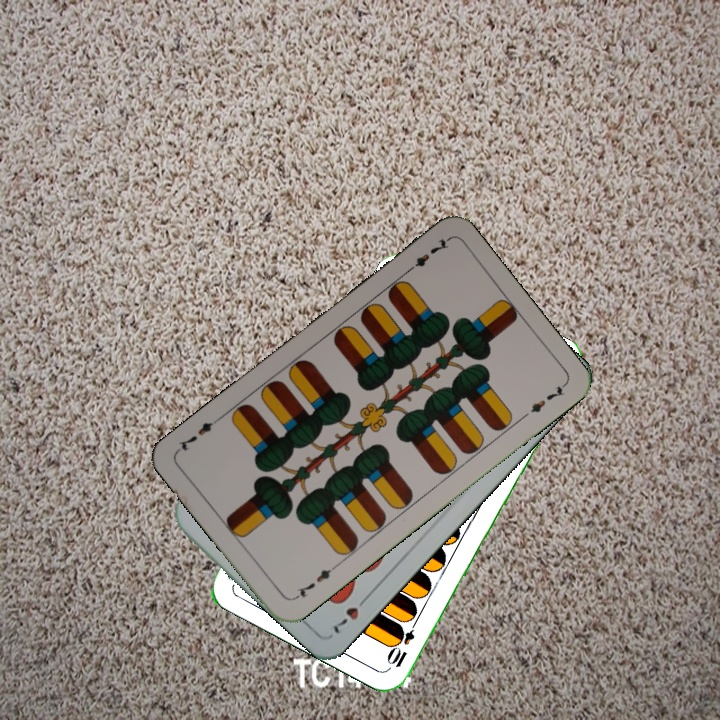E10: (384, 613, 421, 670)
E7: (289, 561, 340, 603), (401, 234, 452, 276)
H7: (329, 590, 373, 637)
